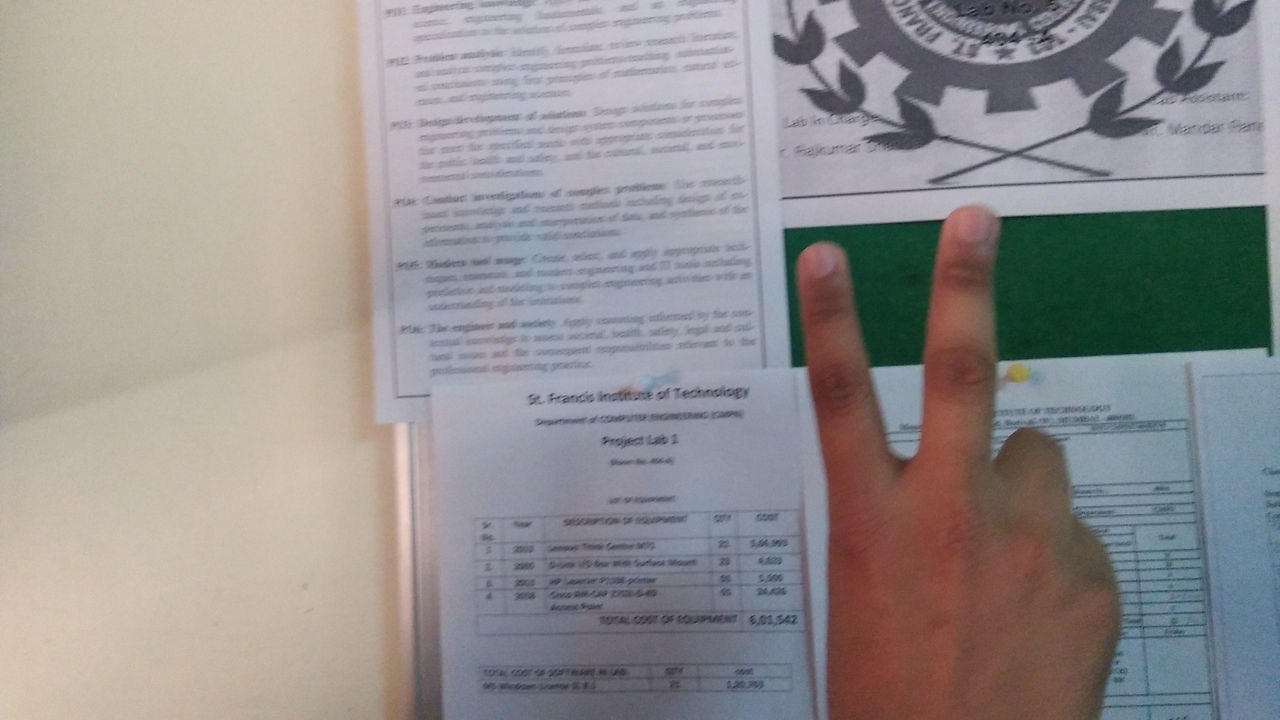fingertip: (938, 194, 1008, 258), (794, 236, 860, 300)
